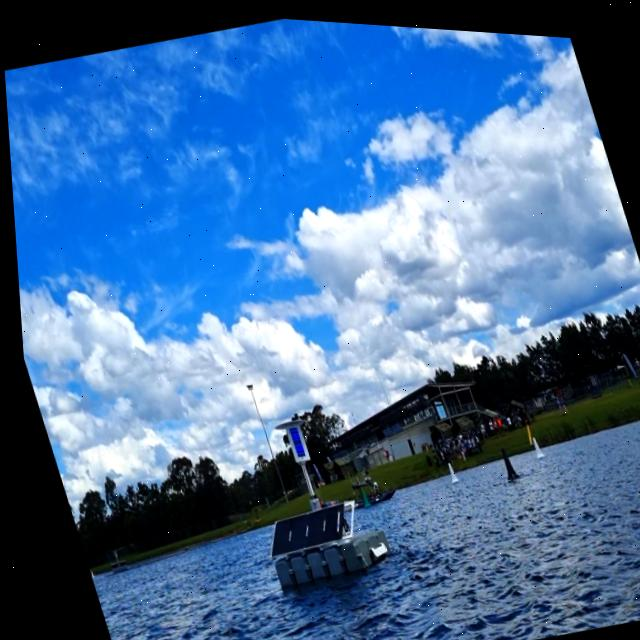led: (280, 419, 303, 457)
